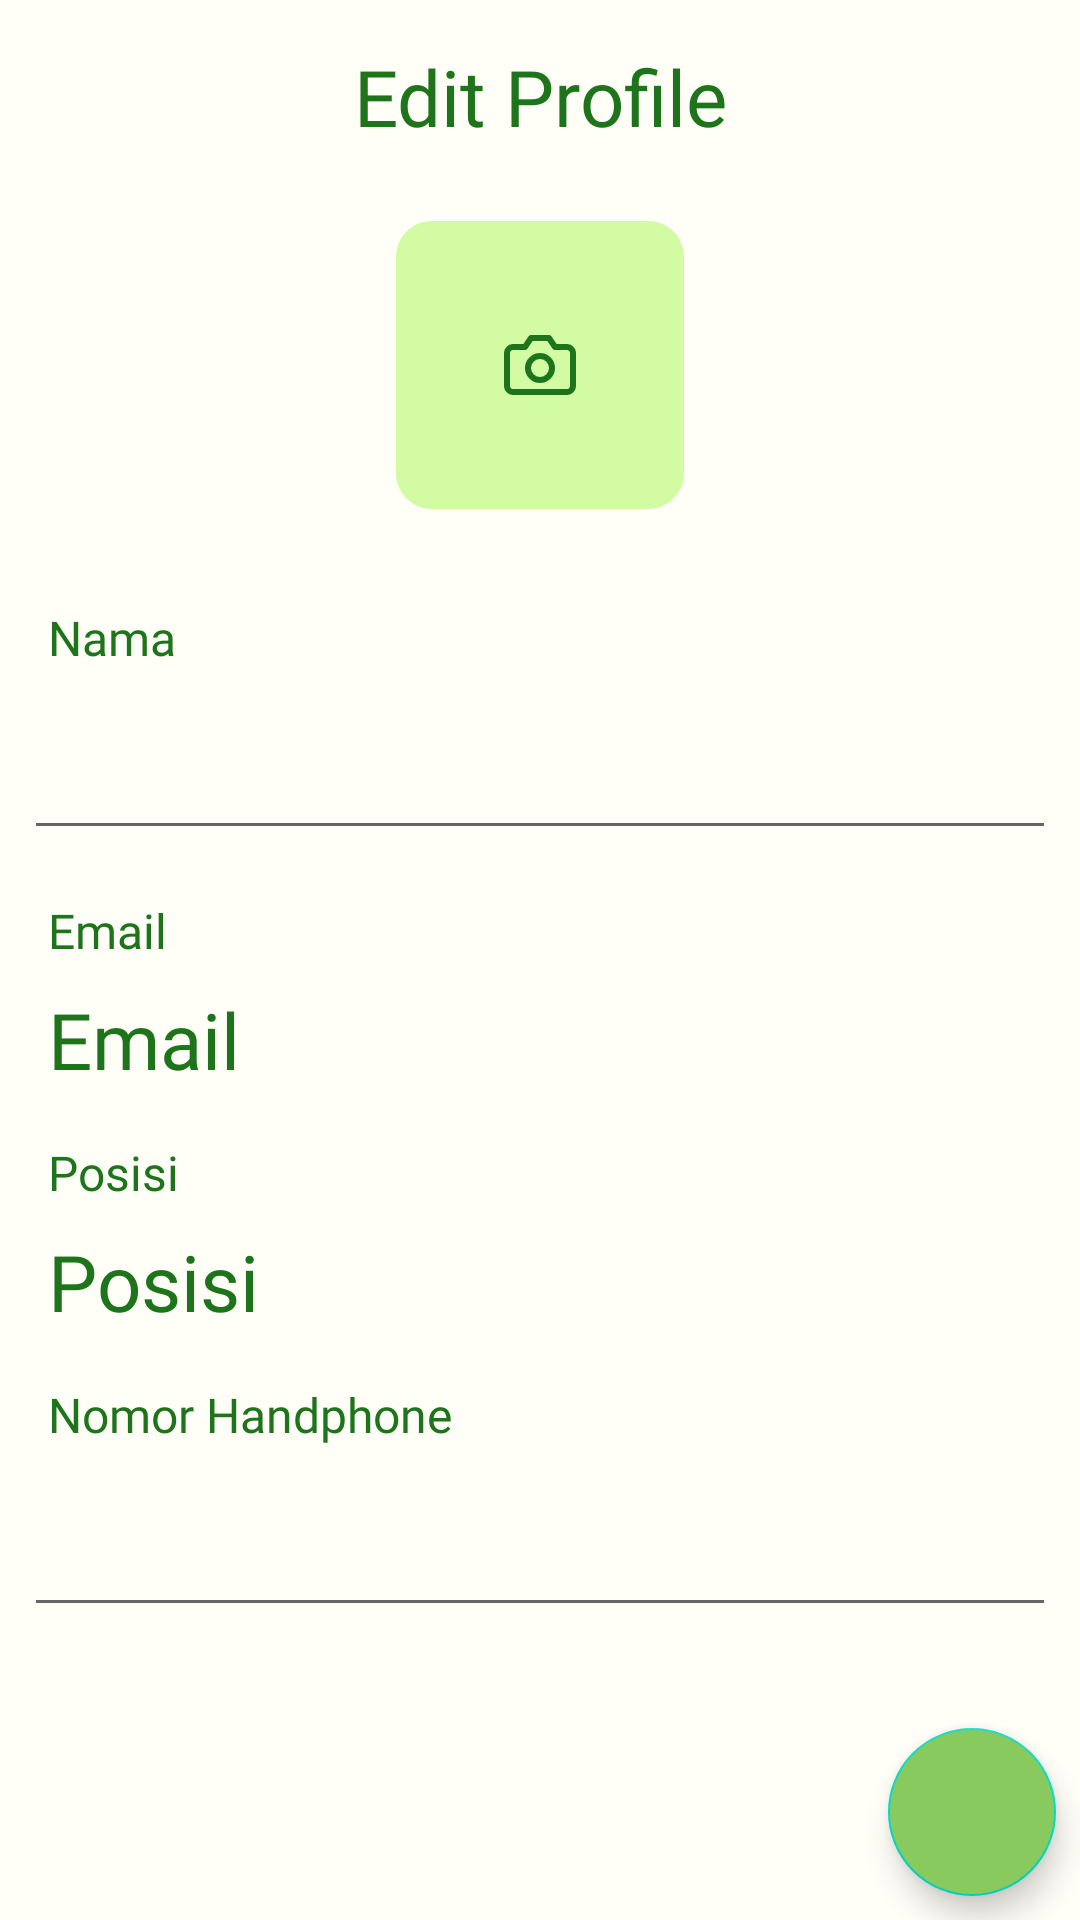

Icon click points for this 1080px×1920px phone screenshot, format (x=x, y=y):
select photo: (x=540, y=365)
